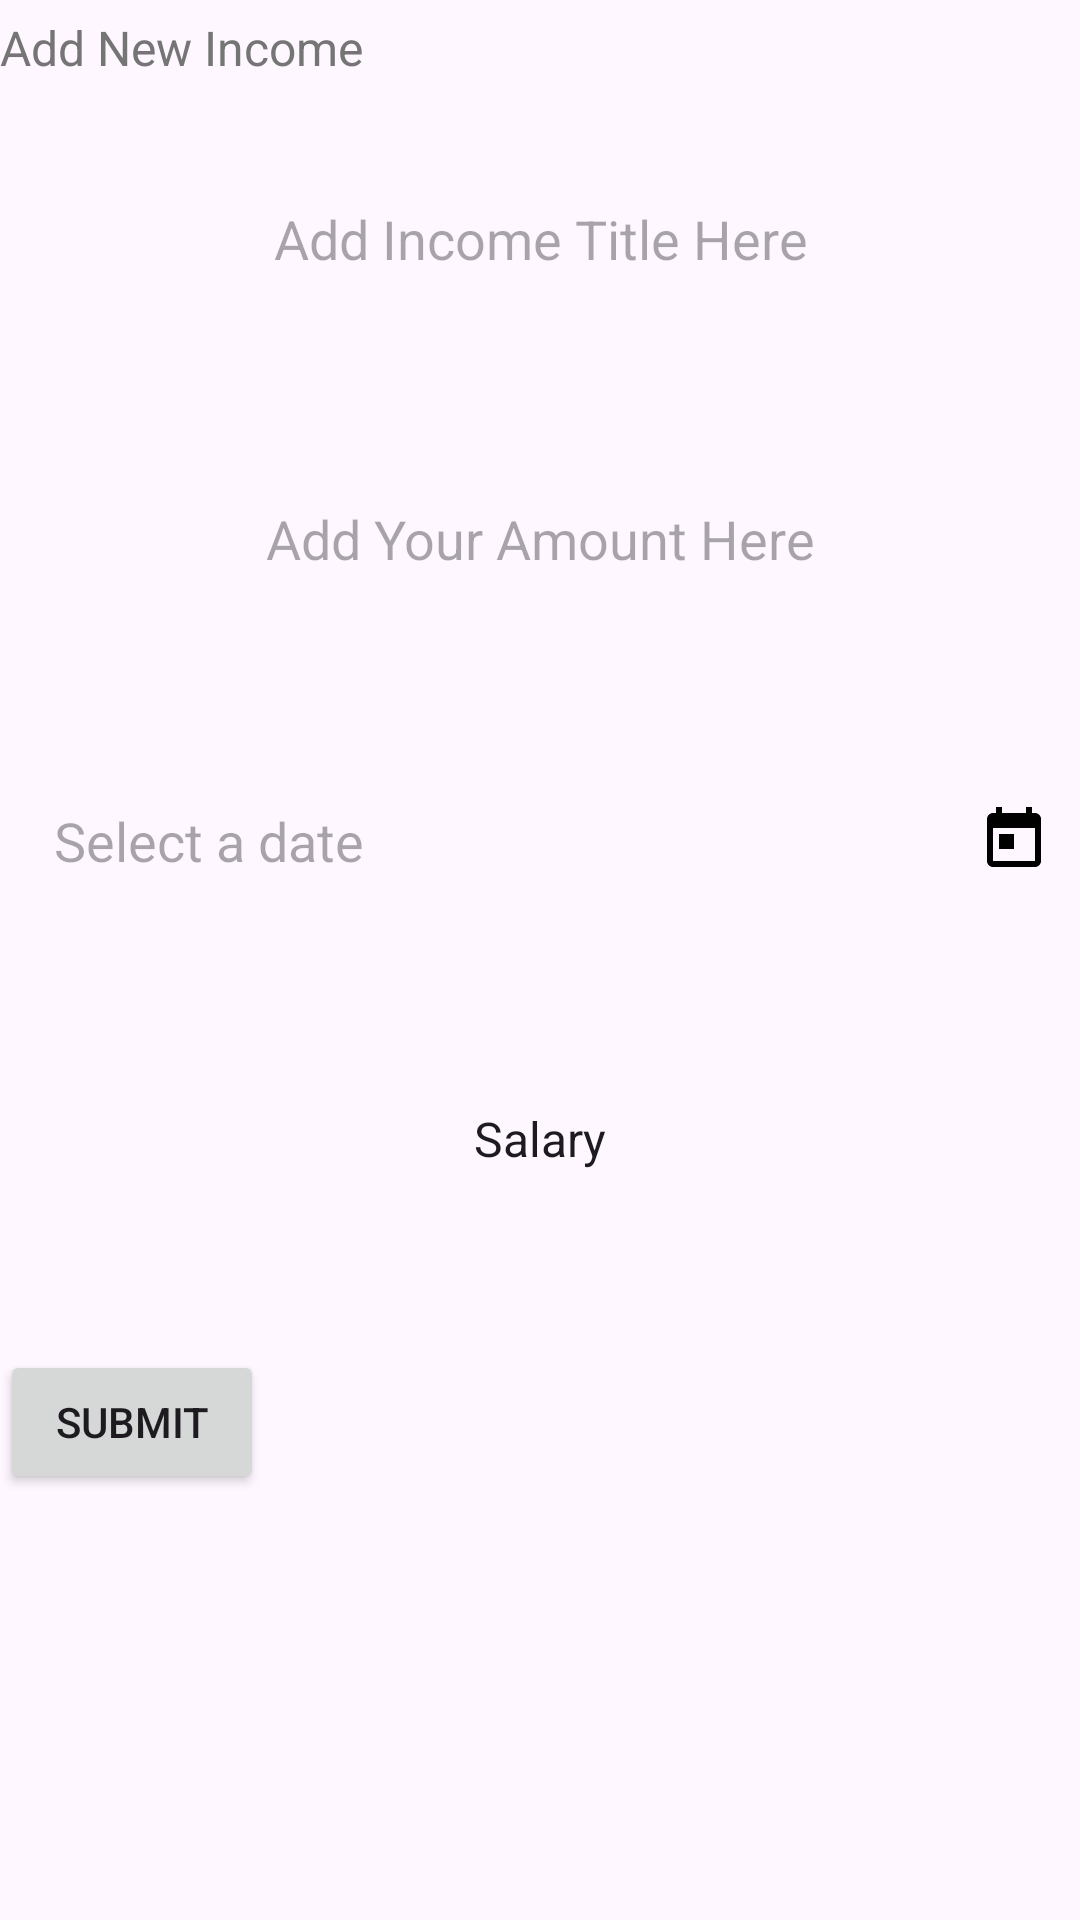

Icon click points for this 1080px x 1920px phone screenshot, format (x=x, y=y):
calendar: (x=1014, y=837)
